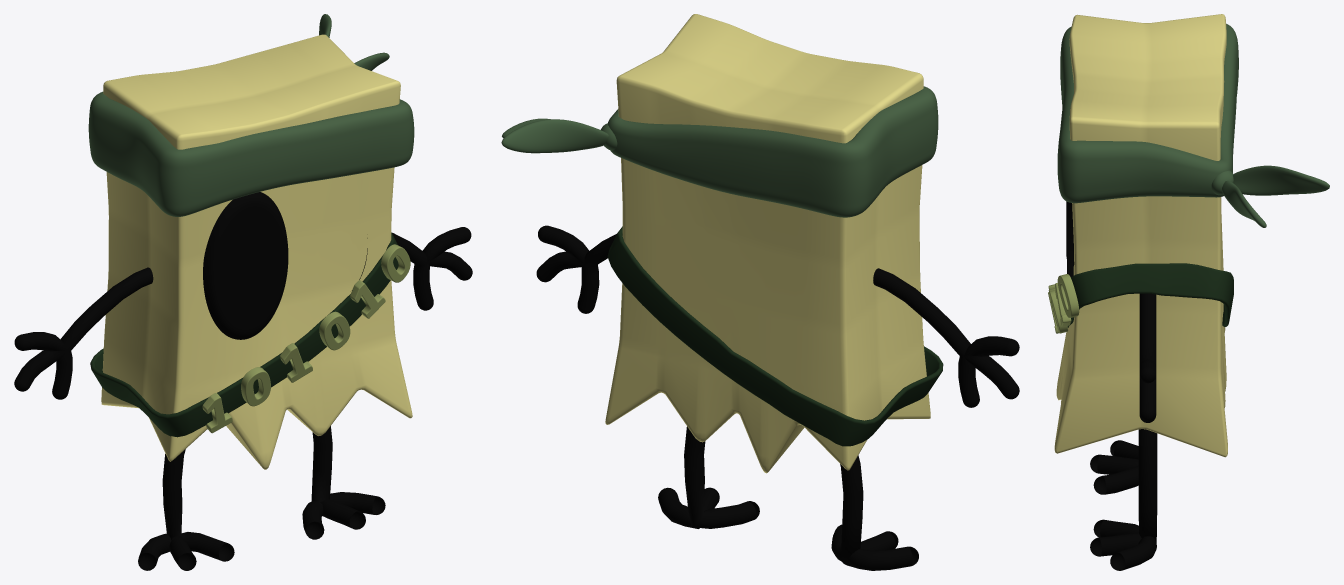
File: CodeMonsterGuerrilla.fbx
3 views of the same model, side by side, from view 1: azimuth 30°, elevation 25°; view 2: azimuth 150°, elevation 25°; view 3: azimuth 270°, elevation 25° (orthographic). The views are drawn at different scales.
Parts seen in each view (by area): view 1: Cuerpo.War, Bandana, CInturon, OJos, BrazoR, PiernaR, PiernaL, BrazoL; view 2: Cuerpo.War, Bandana, CInturon, BrazoR, PiernaR, PiernaL, BrazoL; view 3: Cuerpo.War, Bandana, CInturon, PiernaL, BrazoL, PiernaR, OJos.
Part boxes in pixels (x1,y1,x2,y2): Cuerpo.War: [101, 34, 412, 469]; Bandana: [88, 14, 414, 216]; CInturon: [90, 232, 410, 437]; OJos: [203, 192, 367, 339]; BrazoR: [14, 267, 153, 399]; PiernaR: [138, 449, 234, 570]; PiernaL: [302, 426, 385, 539]; BrazoL: [392, 227, 472, 310]; Cuerpo.War: [605, 14, 930, 473]; Bandana: [501, 86, 938, 217]; CInturon: [607, 226, 943, 446]; BrazoR: [873, 268, 1019, 407]; PiernaR: [831, 455, 918, 570]; PiernaL: [658, 426, 759, 528]; BrazoL: [536, 225, 616, 313]; Cuerpo.War: [1054, 14, 1227, 457]; Bandana: [1057, 23, 1329, 227]; CInturon: [1048, 263, 1233, 333]; PiernaL: [1090, 429, 1157, 570]; BrazoL: [1139, 293, 1156, 422]; PiernaR: [1090, 440, 1138, 494]; OJos: [1066, 201, 1074, 277].
Size of the model in its own units: 443 by 420 by 236.
